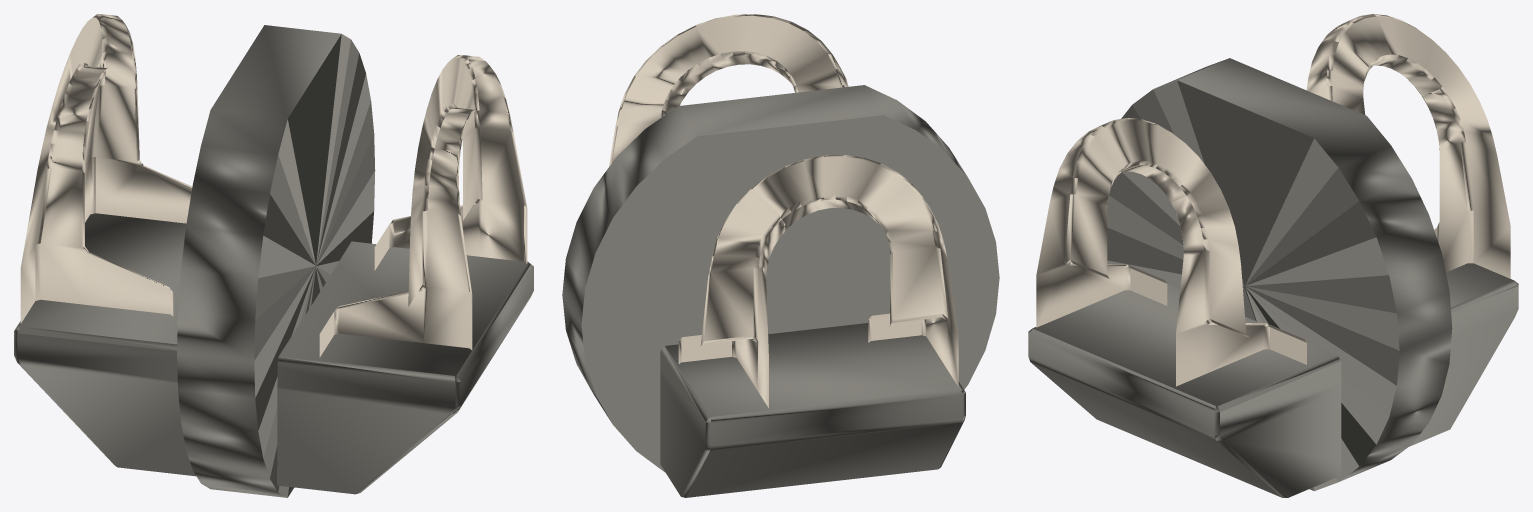
File: satellite_antenna_a_head_tow.glb
The picture shows the model from 3 angles, left to right: view 1: azimuth 30°, elevation 25°; view 2: azimuth 150°, elevation 25°; view 3: azimuth 270°, elevation 25°; orthographic projection. The views are drawn at different scales.
Bounding box in the file's own units: 4.81 × 4.08 × 4.81.
